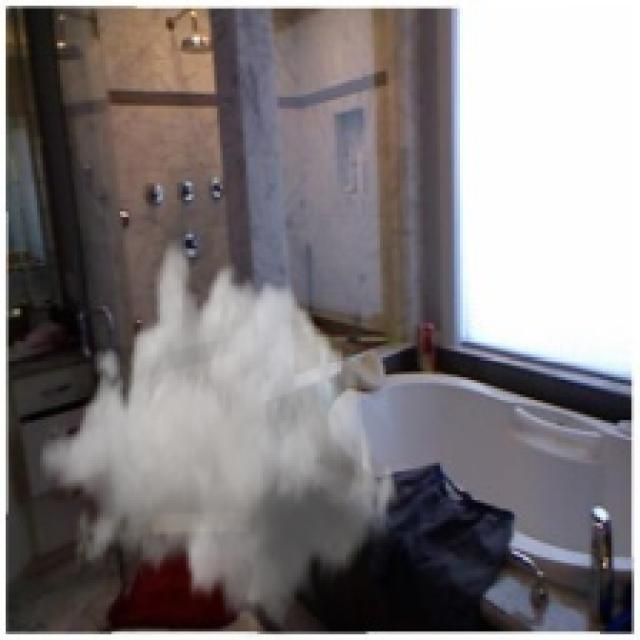Smoke: (37, 234, 403, 637)
